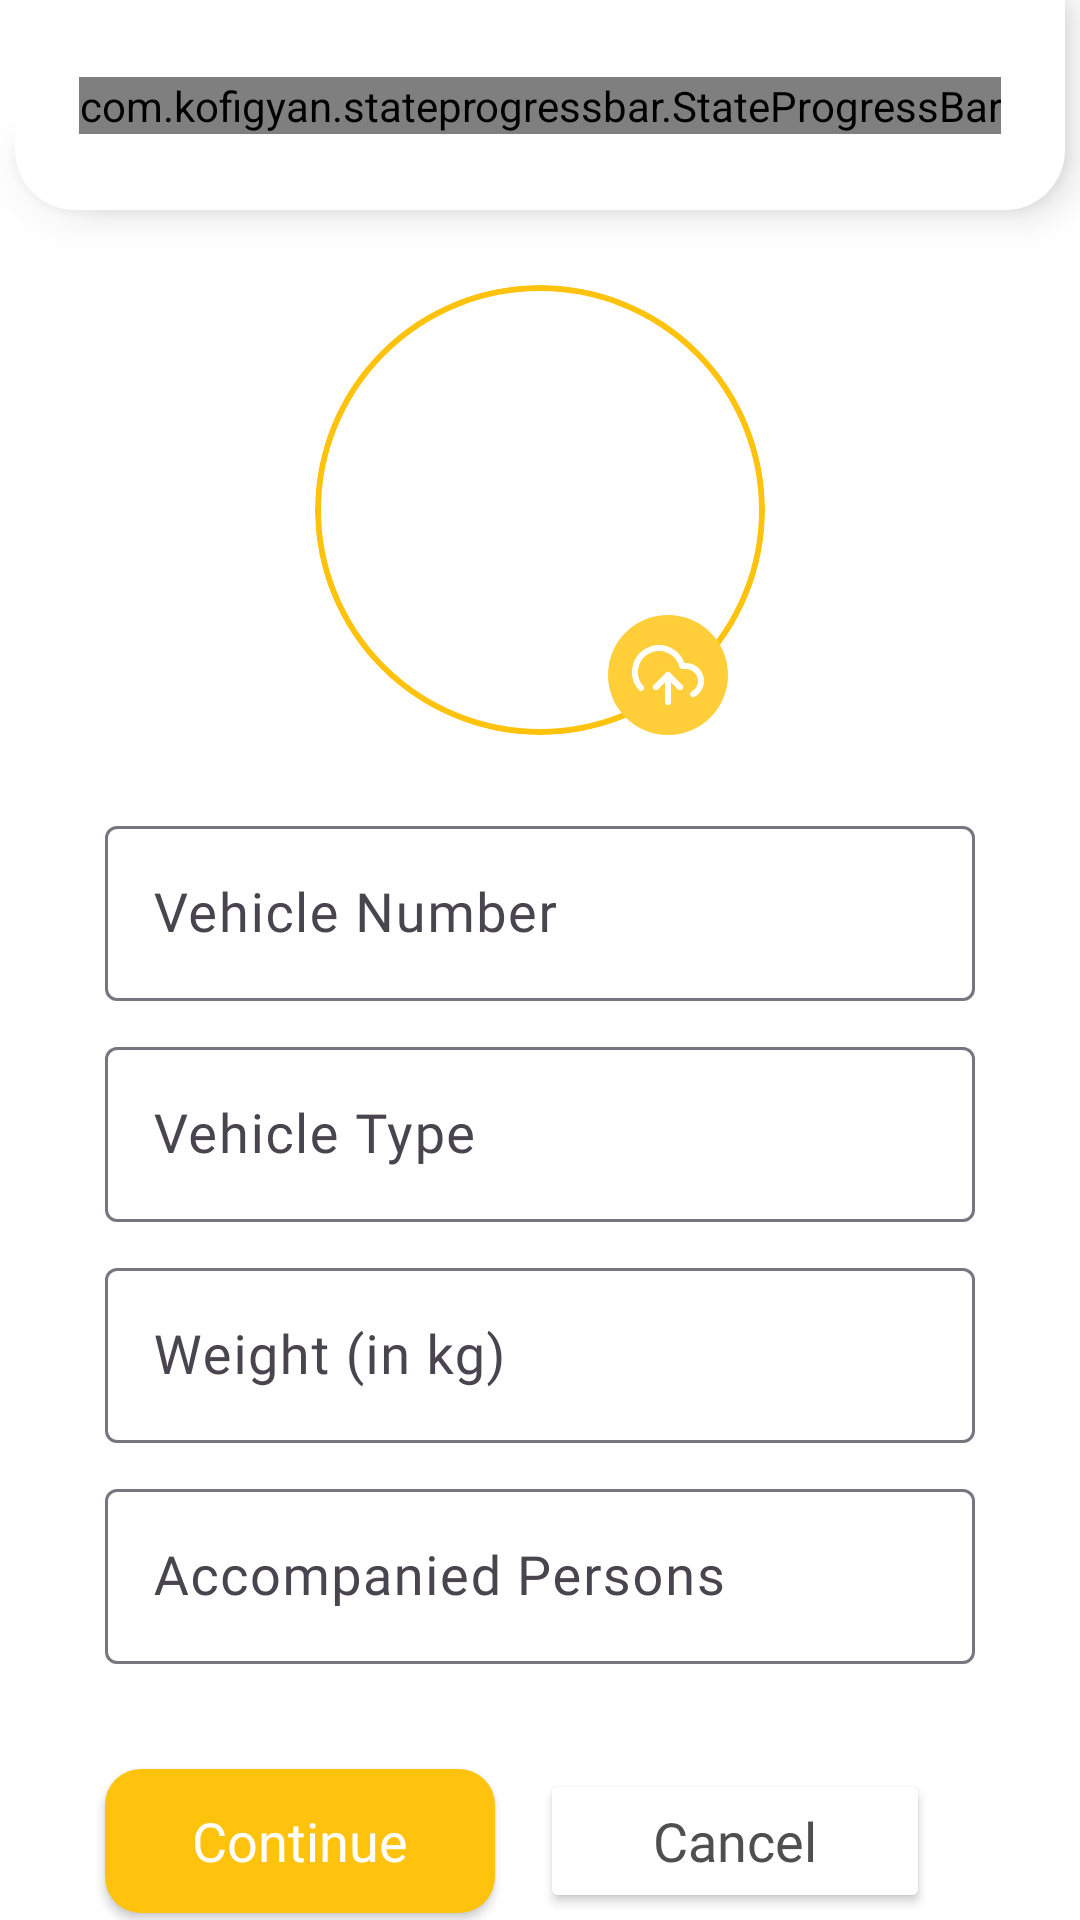

Screen size 1080w x 1920h. Icon name, then its center in pixels as (x=x, y=y):
upload: (x=668, y=675)
